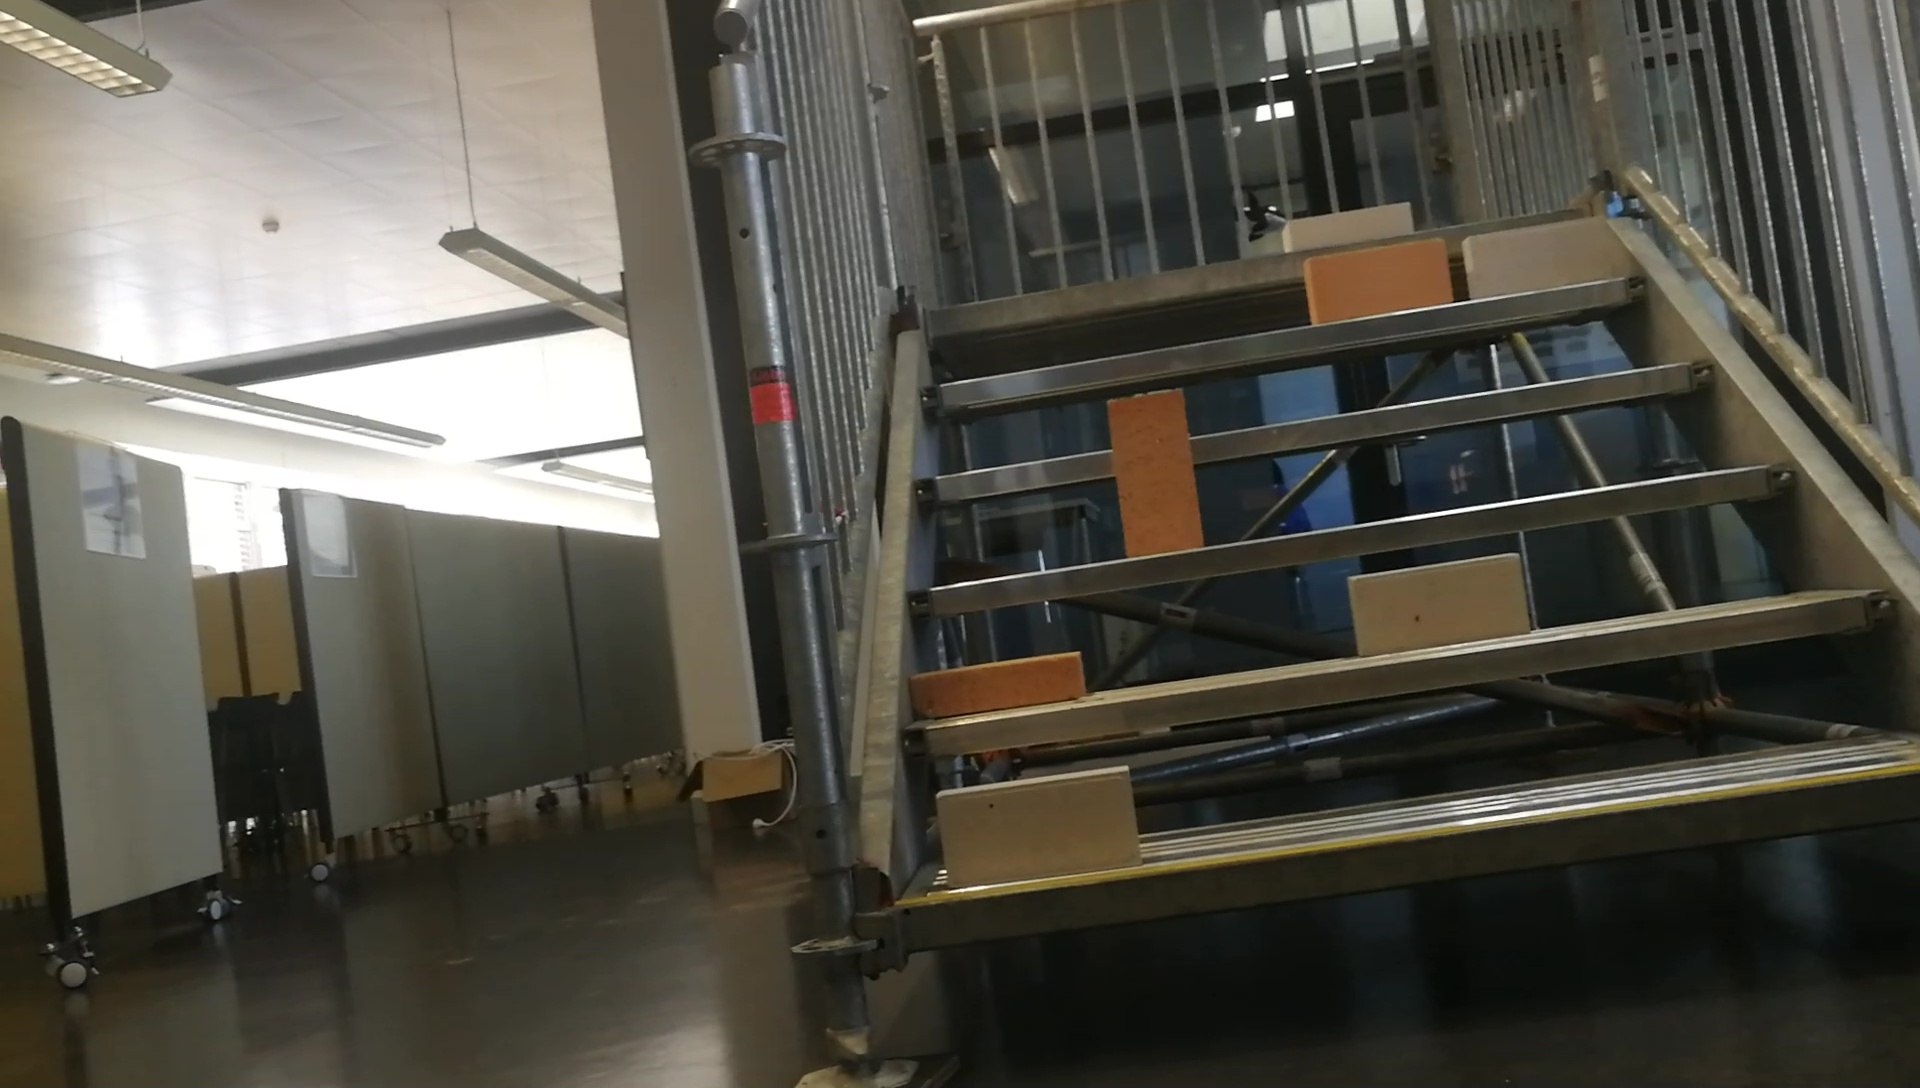brick: (935, 765, 1141, 884), (1353, 553, 1527, 655), (1108, 390, 1203, 560), (1304, 243, 1449, 320), (1465, 218, 1602, 298), (913, 653, 1083, 715), (1280, 204, 1408, 248)
edge: (905, 768, 1920, 946), (905, 595, 1890, 754), (920, 466, 1785, 616), (916, 357, 1713, 502), (920, 270, 1646, 408)
stairs: (698, 0, 1920, 1083)
steps: (870, 195, 1917, 977)
